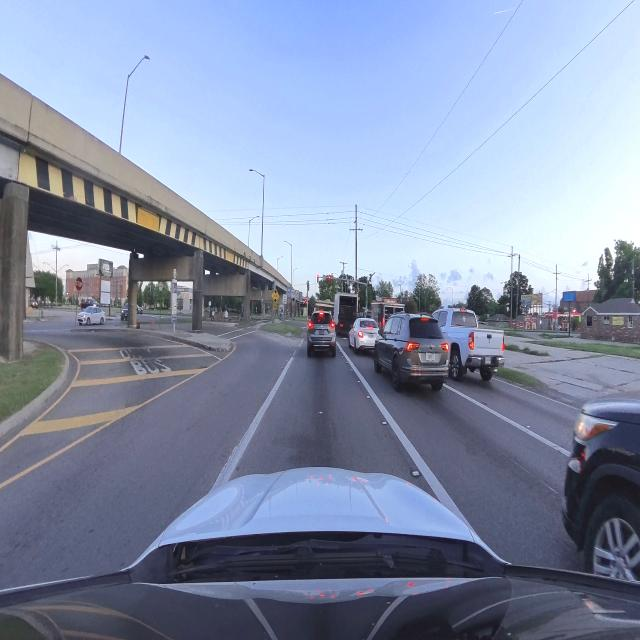car: (563, 400, 639, 581), (374, 313, 448, 390), (433, 308, 504, 381), (307, 310, 336, 357), (349, 318, 378, 351), (78, 307, 105, 325), (121, 303, 128, 320)
